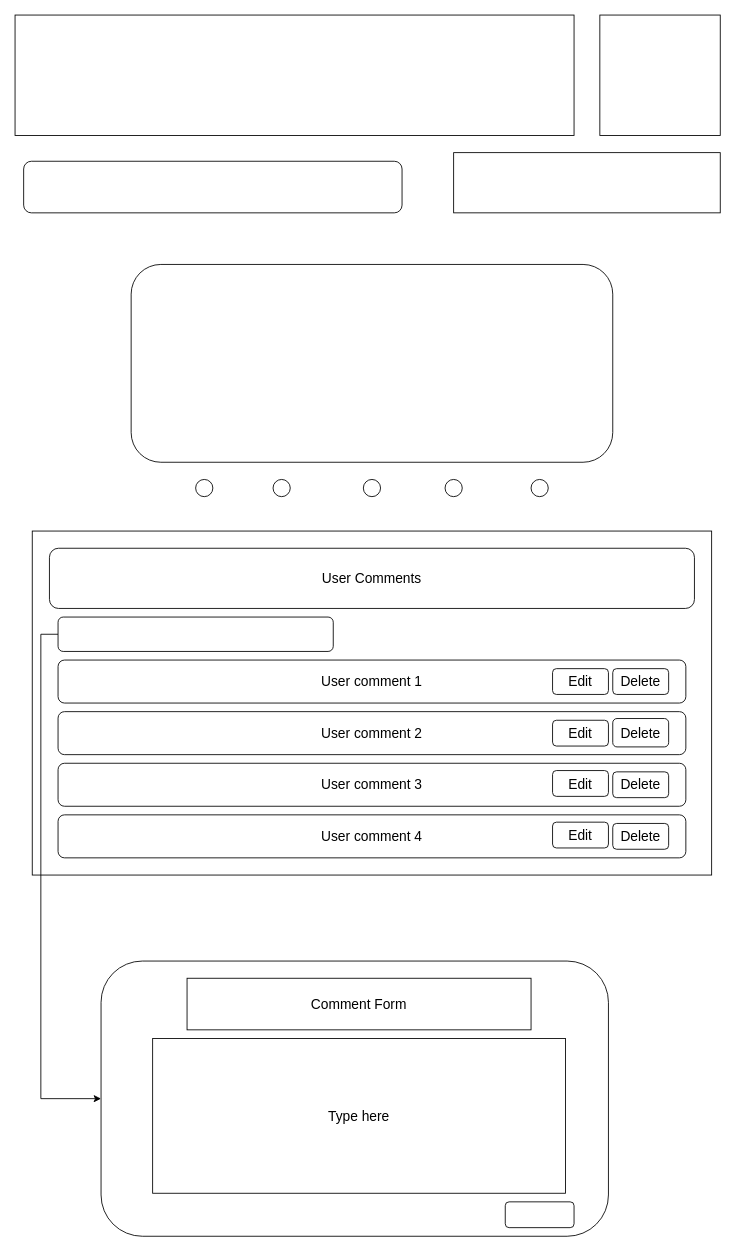
The diagram is 735 pixels wide and 1251 high, and some of its shapes have lost their labels. Each missing label, with the centre of its shape:
Add new comment: the point at 195,633
Break Drop Down: the point at 212,186
Break Name: the point at 586,182
Featured pictures: the point at 371,363
Nav: the point at 659,74
Site Name: the point at 294,74
submit: the point at 539,1214
